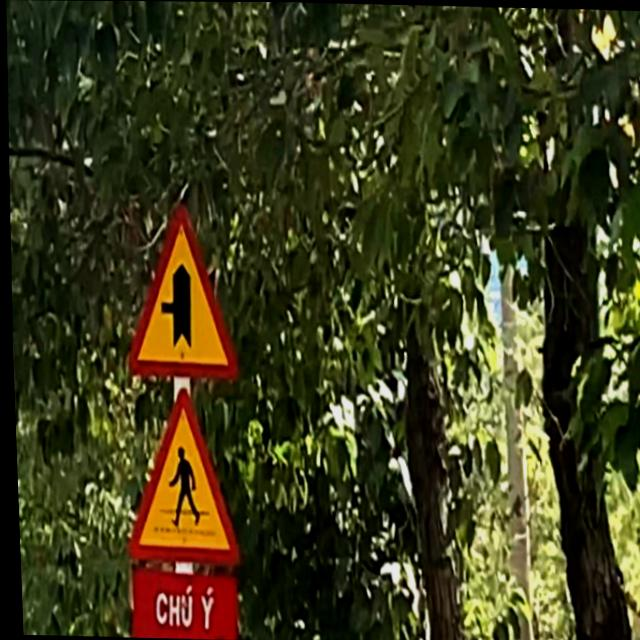Giao nhau voi duong khong uu tien ben trai: (112, 196, 245, 387)
Nguoi di bo cat ngang: (115, 380, 242, 572)
